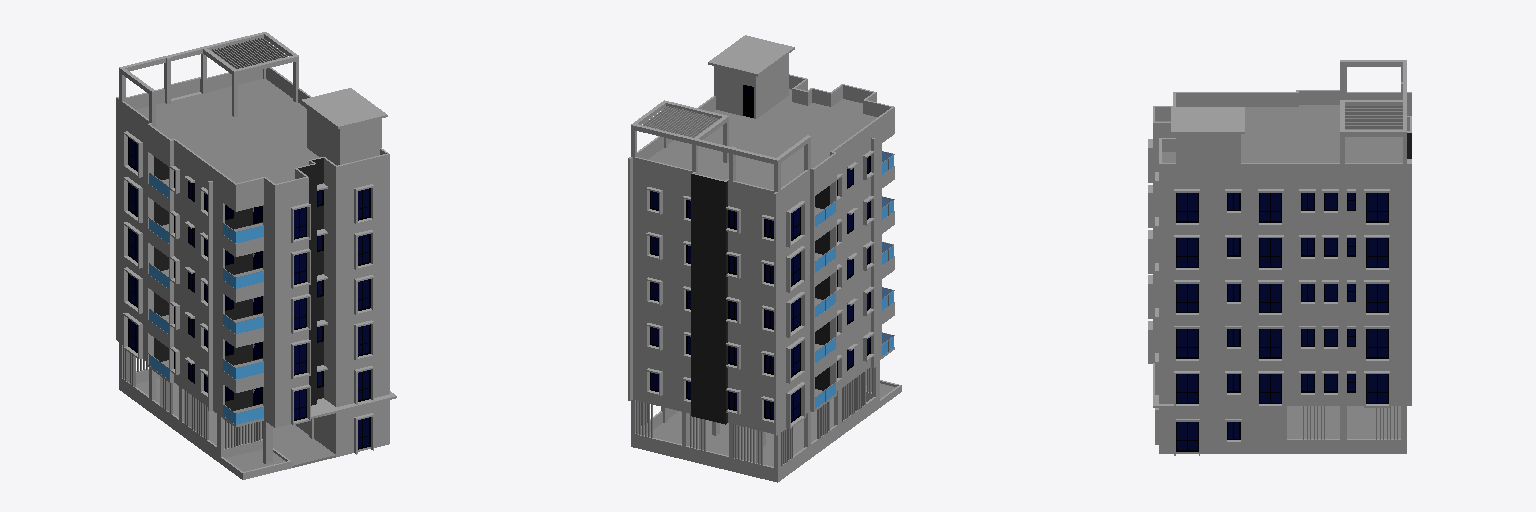
3 renders of one model, left to right at view 1: azimuth 30°, elevation 25°; view 2: azimuth 150°, elevation 25°; view 3: azimuth 270°, elevation 25°, orthographic.
Parts seen in each view (by area): view 1: WALL, ROOF_1, GROUND_FLOOR_1, BALCONY, WINDOW, LOUVER, DOOR; view 2: WALL, ROOF_1, GROUND_FLOOR_1, LOUVER, WINDOW, BALCONY; view 3: WALL, ROOF_1, WINDOW, GROUND_FLOOR_1, LOUVER, GROUND_FLOOR_2.
Part boxes in pixels (x1,y1,x2,y2): WALL: (116,111,389,427); ROOF_1: (116,67,389,198); GROUND_FLOOR_1: (119,342,396,479); BALCONY: (148,172,263,426); WINDOW: (128,137,370,420); LOUVER: (119,32,298,448); DOOR: (253,206,262,405); WALL: (628,130,881,436); ROOF_1: (628,35,894,207); GROUND_FLOOR_1: (631,361,901,482); LOUVER: (631,100,872,465); WINDOW: (650,156,870,422); BALCONY: (815,121,894,410); WALL: (1148,107,1411,407); ROOF_1: (1153,90,1411,176); WINDOW: (1176,193,1388,403); GROUND_FLOOR_1: (1153,363,1406,455); LOUVER: (1303,60,1406,439); GROUND_FLOOR_2: (1176,422,1240,451).
Size of the model in its own units: 84.55 by 169 by 125.
12 materials, 2 textured.